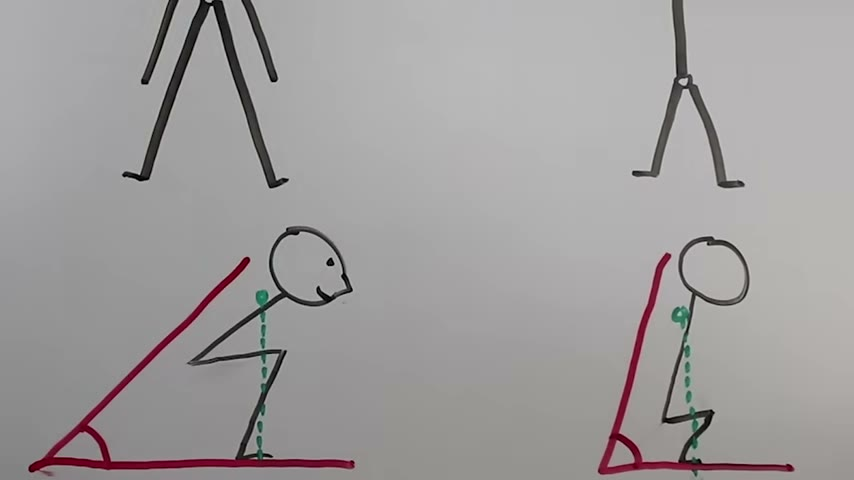barbell_plate_side: (288, 223, 357, 442), (298, 223, 356, 338)
